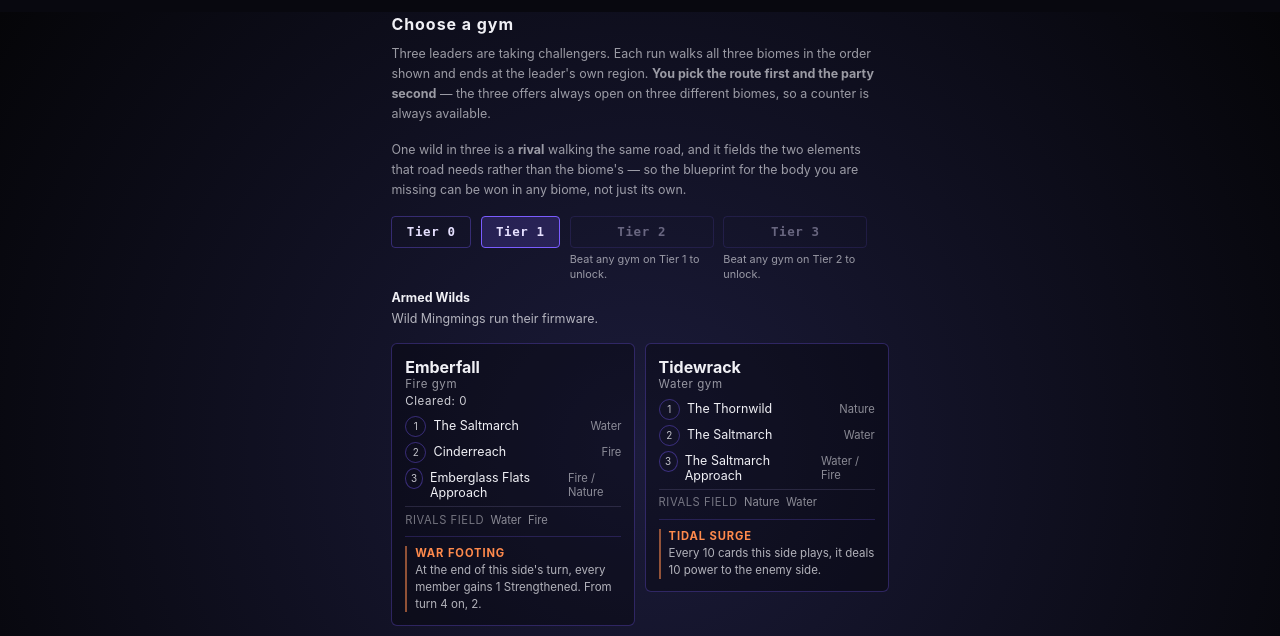
the modifier row › is open after one gym clear: five enabled chips, none switched on, no unlock line
The image size is (1280, 636).
Step 1. Click the button with class "ranch-offer" that starts with "Emberfall" → (513,484), box [391,343,635,626]
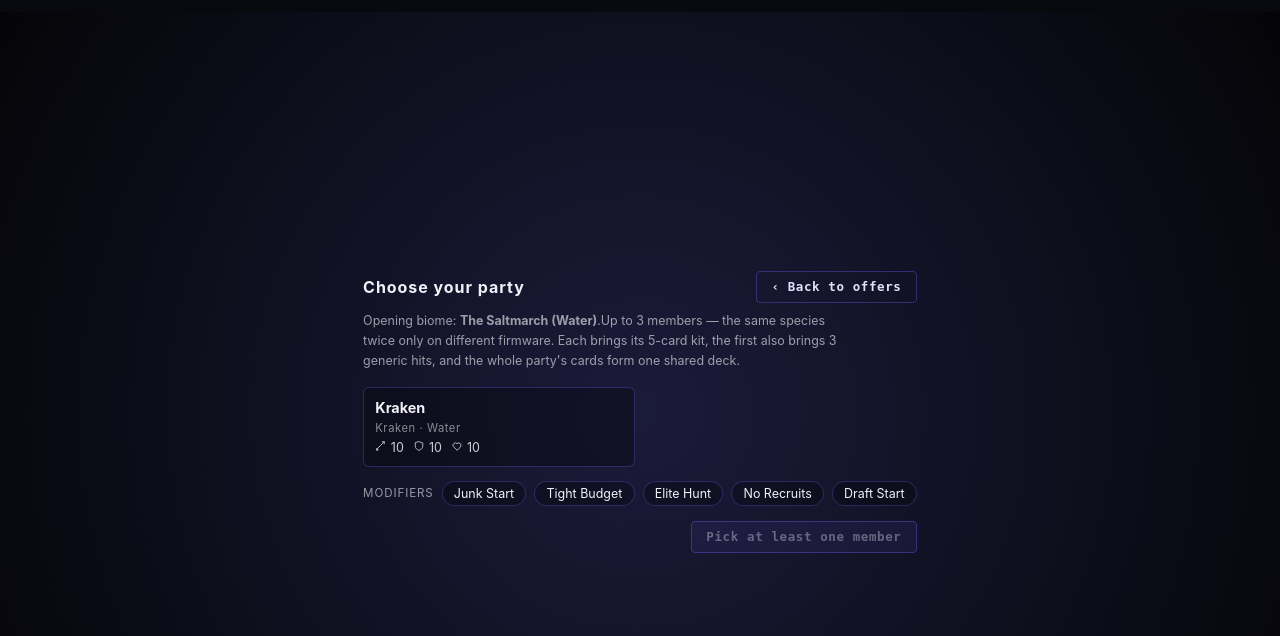
Expected: the button "Junk Start" is enabled, [442,481,526,506]
Expected: the button "Tight Budget" is enabled, [534,481,634,506]
Expected: the button "Elite Hunt" is enabled, [643,481,723,506]
